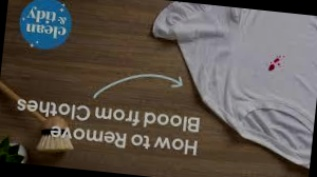blood: (267, 53, 288, 74)
